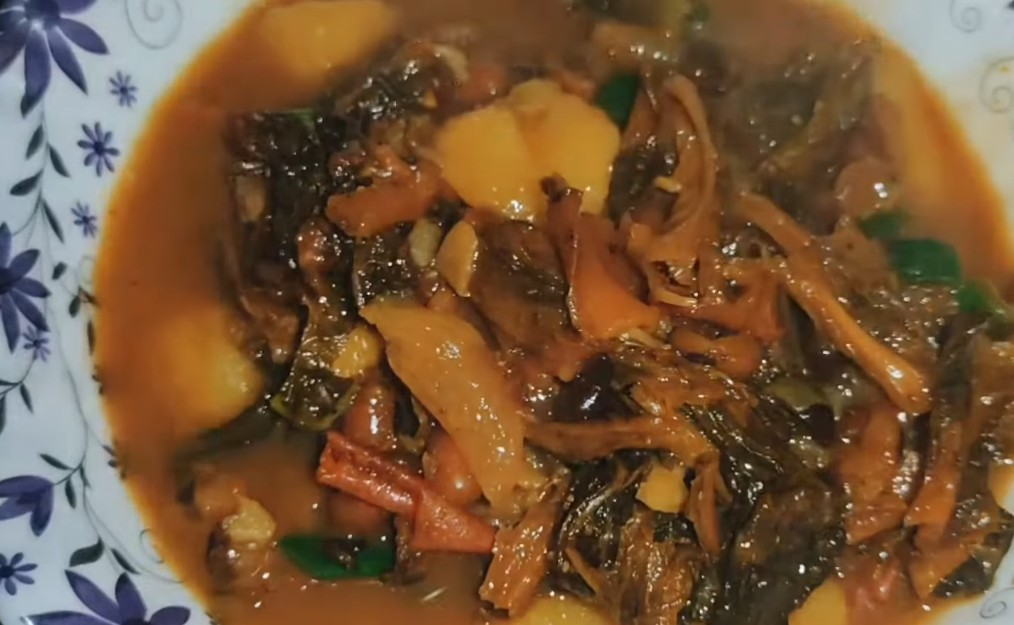gundruk: (140, 1, 993, 616)
